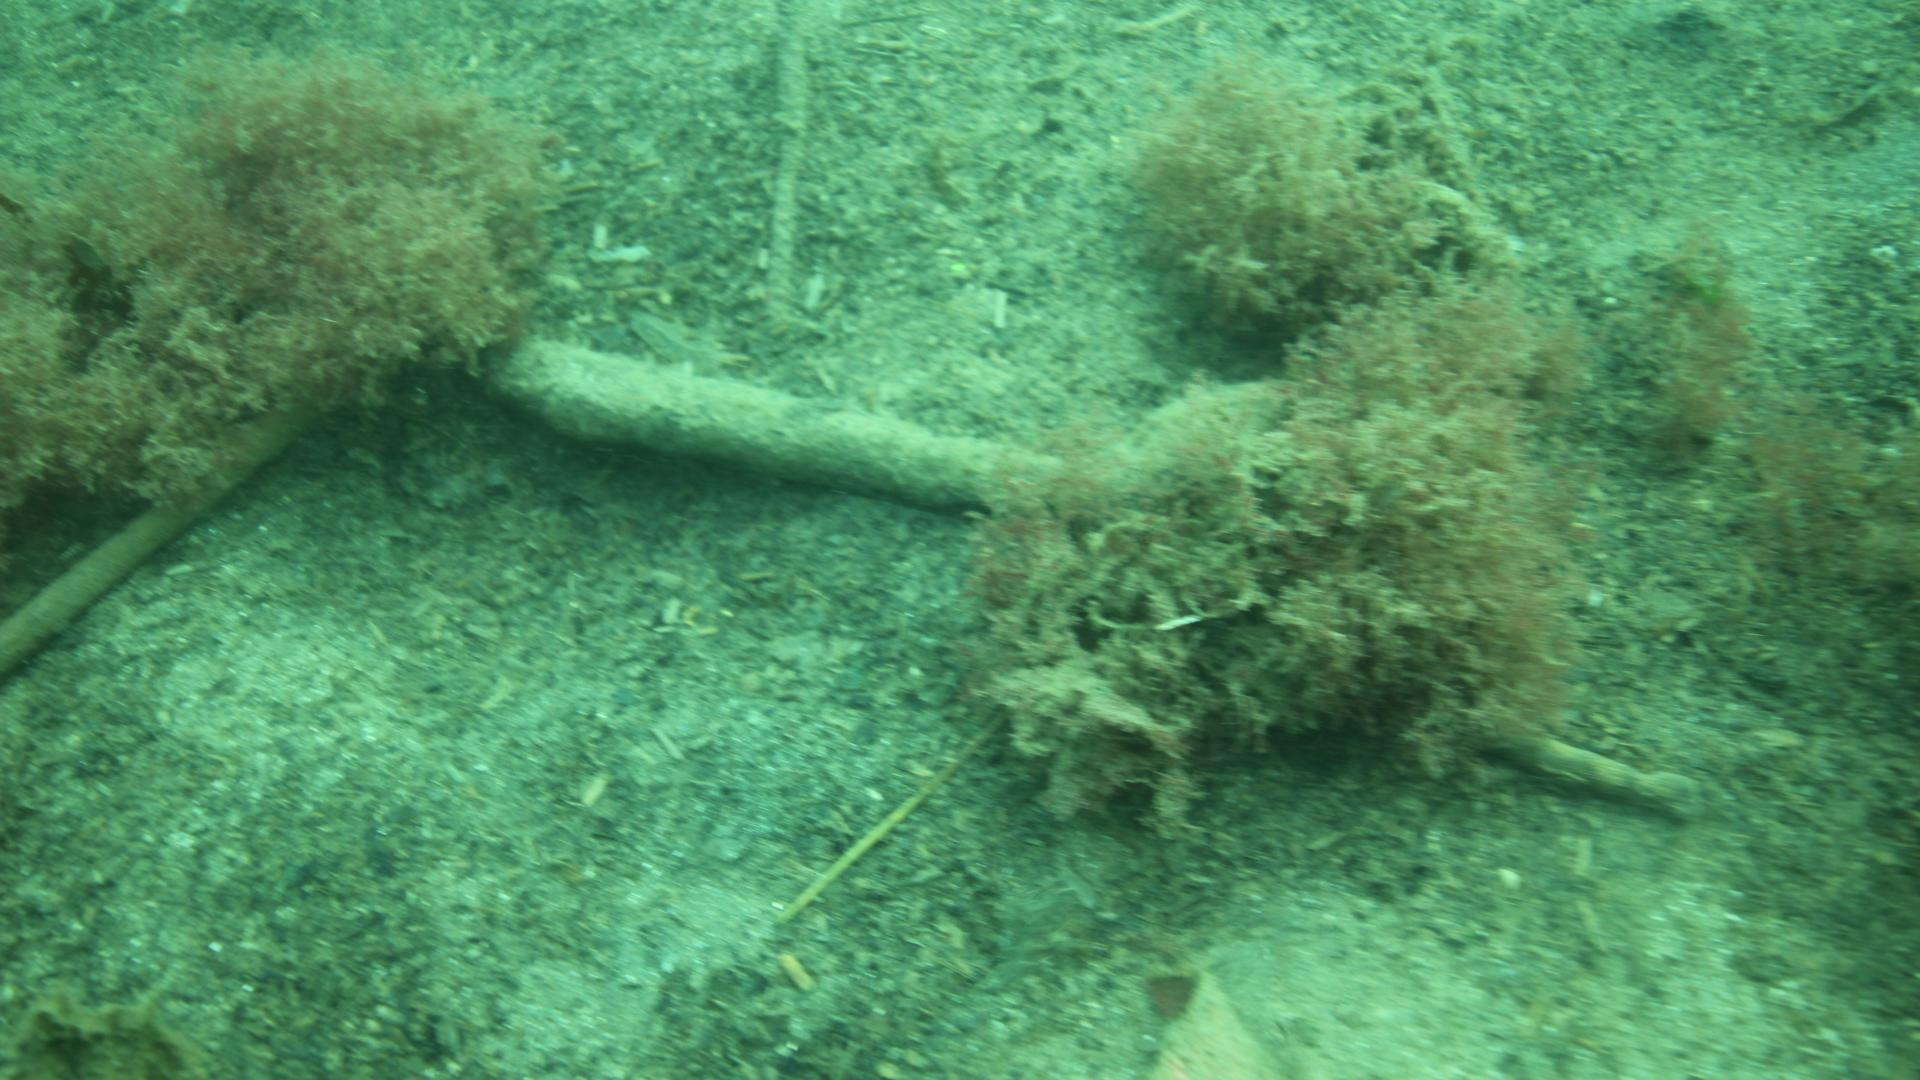wood: (501, 334, 1295, 518)
